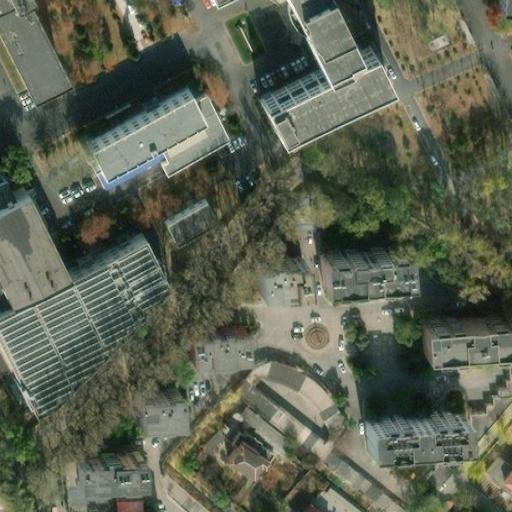building: (249, 39, 378, 129), (76, 83, 195, 162), (231, 374, 319, 454), (261, 353, 346, 425), (145, 97, 222, 171), (324, 451, 402, 512), (317, 236, 404, 276), (413, 305, 512, 340), (359, 403, 460, 437), (73, 443, 139, 476), (219, 435, 264, 479), (163, 202, 212, 241), (252, 257, 297, 291), (130, 378, 175, 412), (186, 317, 231, 350), (415, 333, 512, 348), (107, 471, 141, 512), (59, 457, 77, 507), (419, 491, 457, 512), (495, 466, 512, 496)
